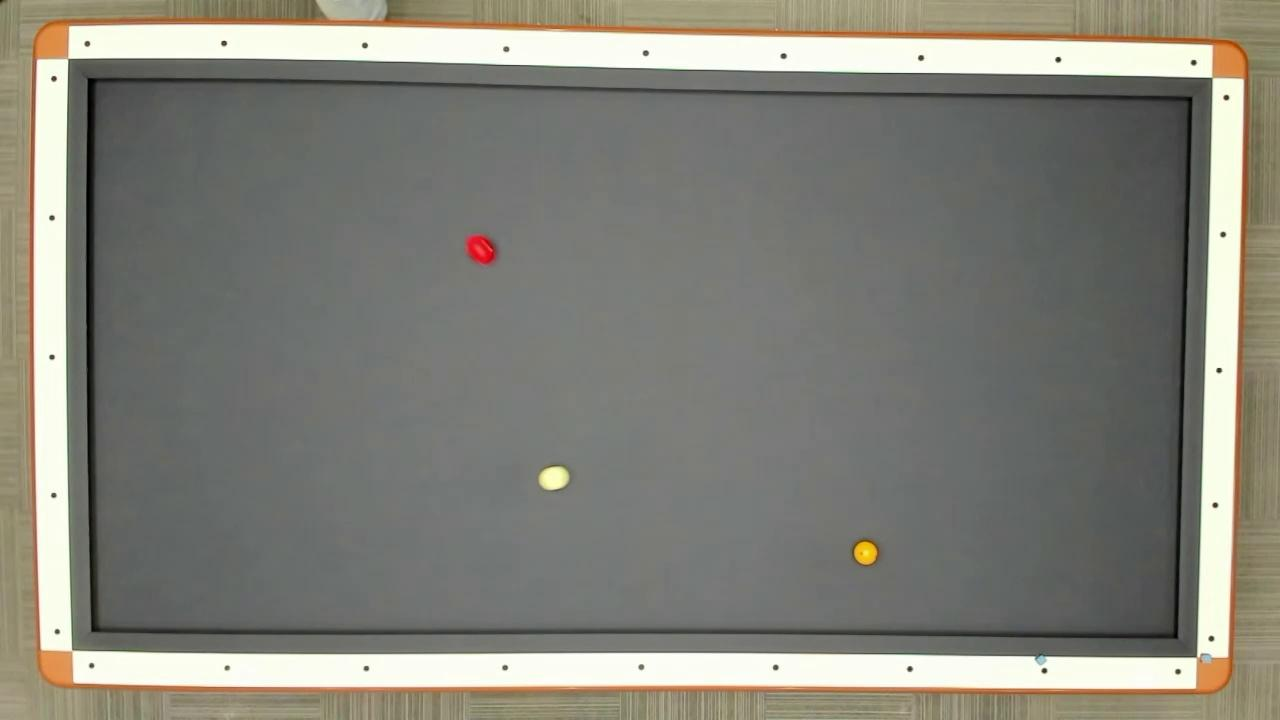Red: (461, 232, 498, 268)
White: (536, 465, 572, 494)
Yellow: (850, 537, 881, 569)
